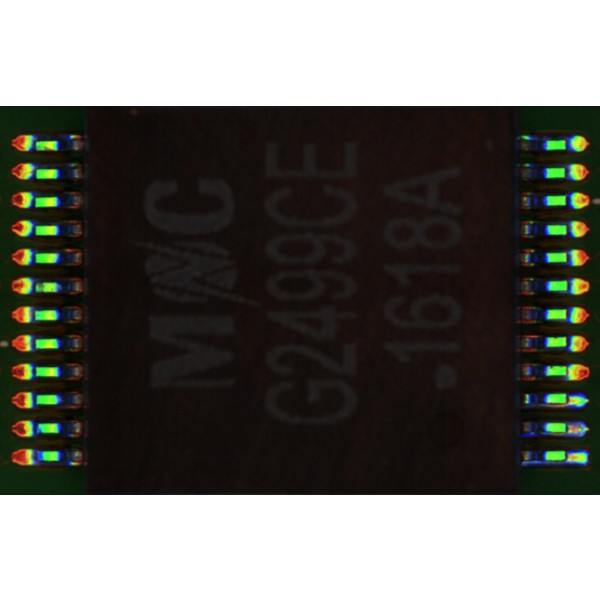Bad_podu: (561, 425, 576, 433), (561, 454, 577, 461), (562, 397, 577, 404)
